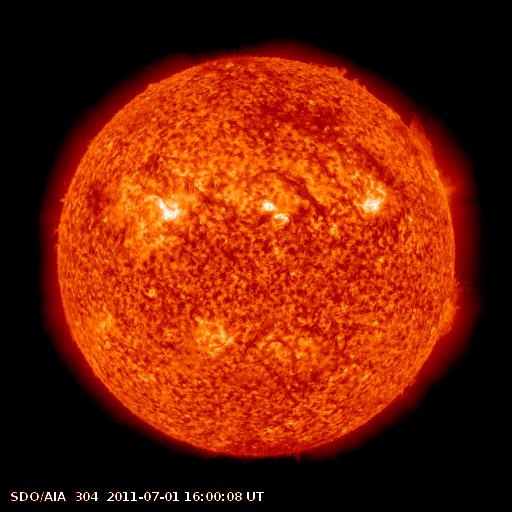prominence: (432, 276, 471, 342), (304, 57, 372, 94), (404, 109, 439, 169)
